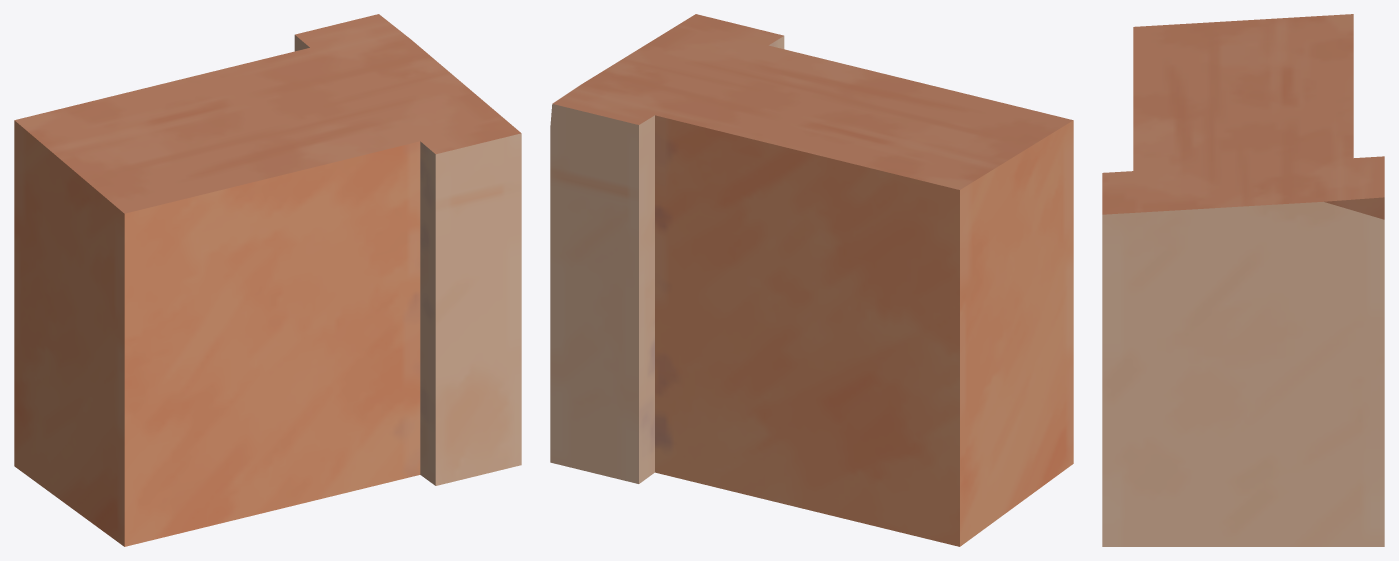
Rendered from wall2_upper_door_s07.fbx.
3 views of the same model, side by side, from view 1: azimuth 30°, elevation 25°; view 2: azimuth 150°, elevation 25°; view 3: azimuth 270°, elevation 25° (orthographic). The views are drawn at different scales.
Visible parts, largest first — view 1: wall2_upper_door_s07; view 2: wall2_upper_door_s07; view 3: wall2_upper_door_s07.
Part boxes in pixels (x1=…): wall2_upper_door_s07: x1=14, y1=14, x2=521, y2=546; wall2_upper_door_s07: x1=550, y1=14, x2=1073, y2=546; wall2_upper_door_s07: x1=1102, y1=14, x2=1384, y2=546.
Bounding box in the file's own units: 2 × 1.74 × 1.28.
